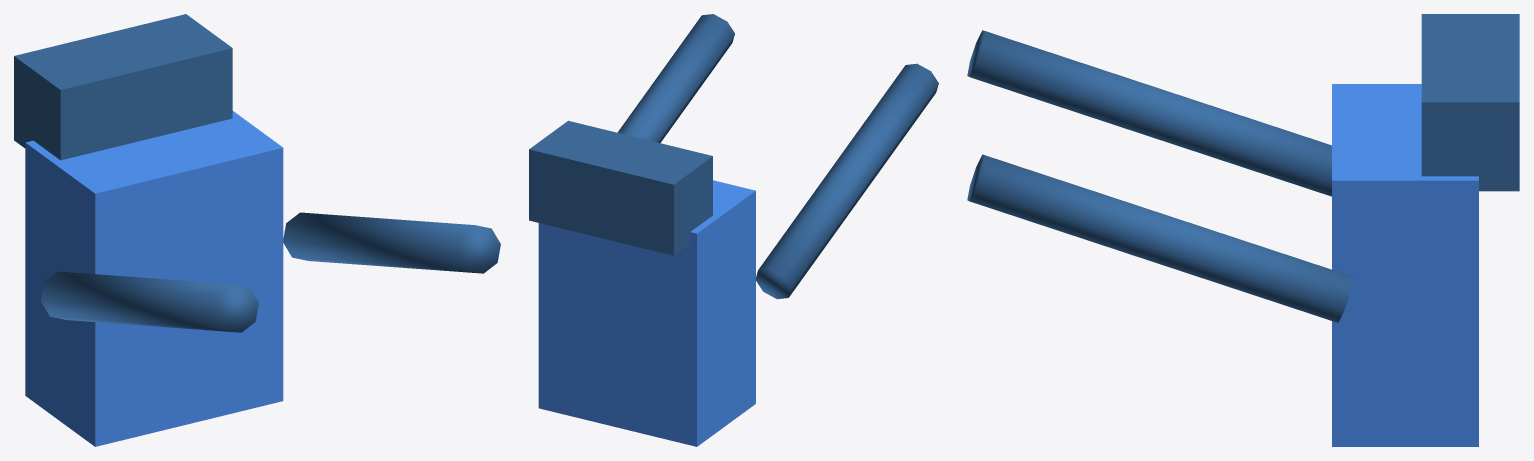
File: backpack.glb
3 renders of one model, left to right at view 1: azimuth 30°, elevation 25°; view 2: azimuth 150°, elevation 25°; view 3: azimuth 270°, elevation 25°, orthographic. The views are drawn at different scales.
Parts seen in each view (by area): view 1: backpack_bag; view 2: backpack_bag; view 3: backpack_bag.
Boxes of the visible parts, x1=… form: backpack_bag: x1=14, y1=14, x2=500, y2=446; backpack_bag: x1=529, y1=14, x2=938, y2=446; backpack_bag: x1=967, y1=14, x2=1519, y2=446.
Bounding box in the file's own units: 0.106 × 0.115 × 0.1691.
